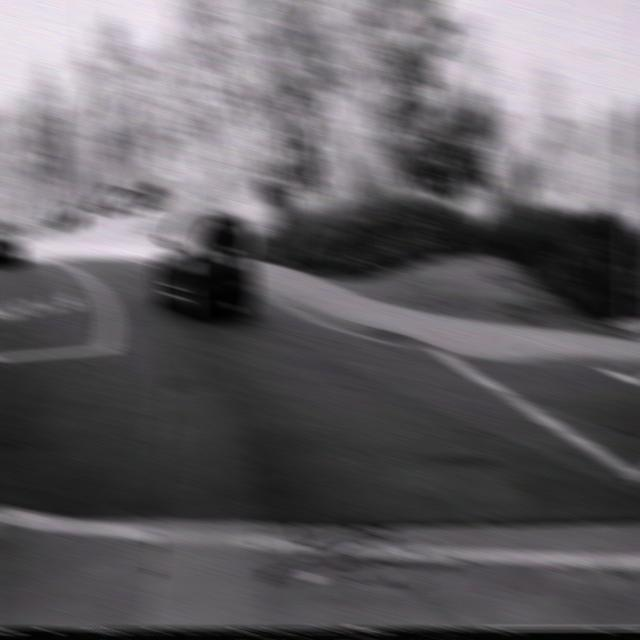pedestrianCrossing: (54, 172, 78, 204)
